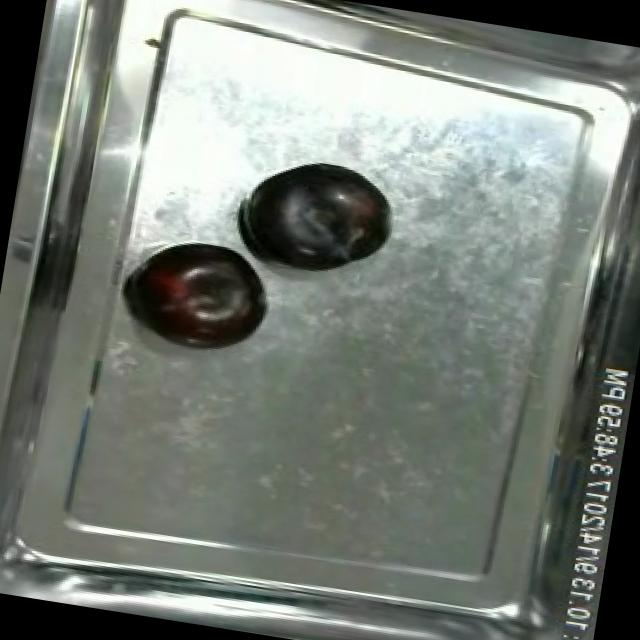Fruit: (228, 148, 406, 290), (128, 232, 278, 364)
